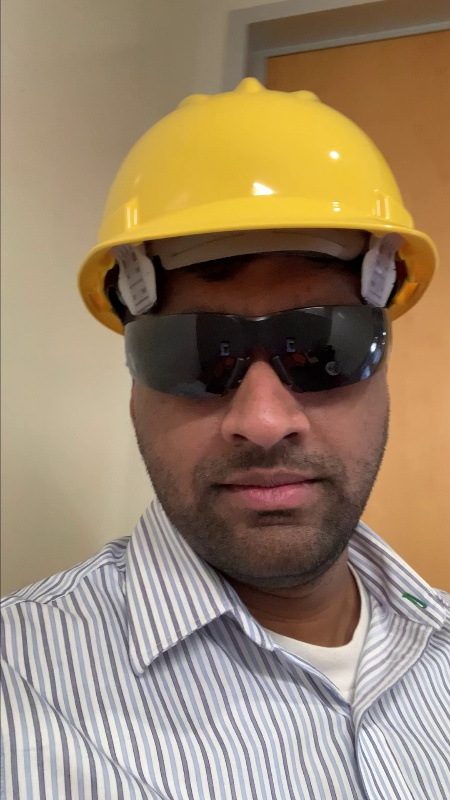glasses: (114, 304, 402, 394)
helmet: (56, 74, 445, 306)
